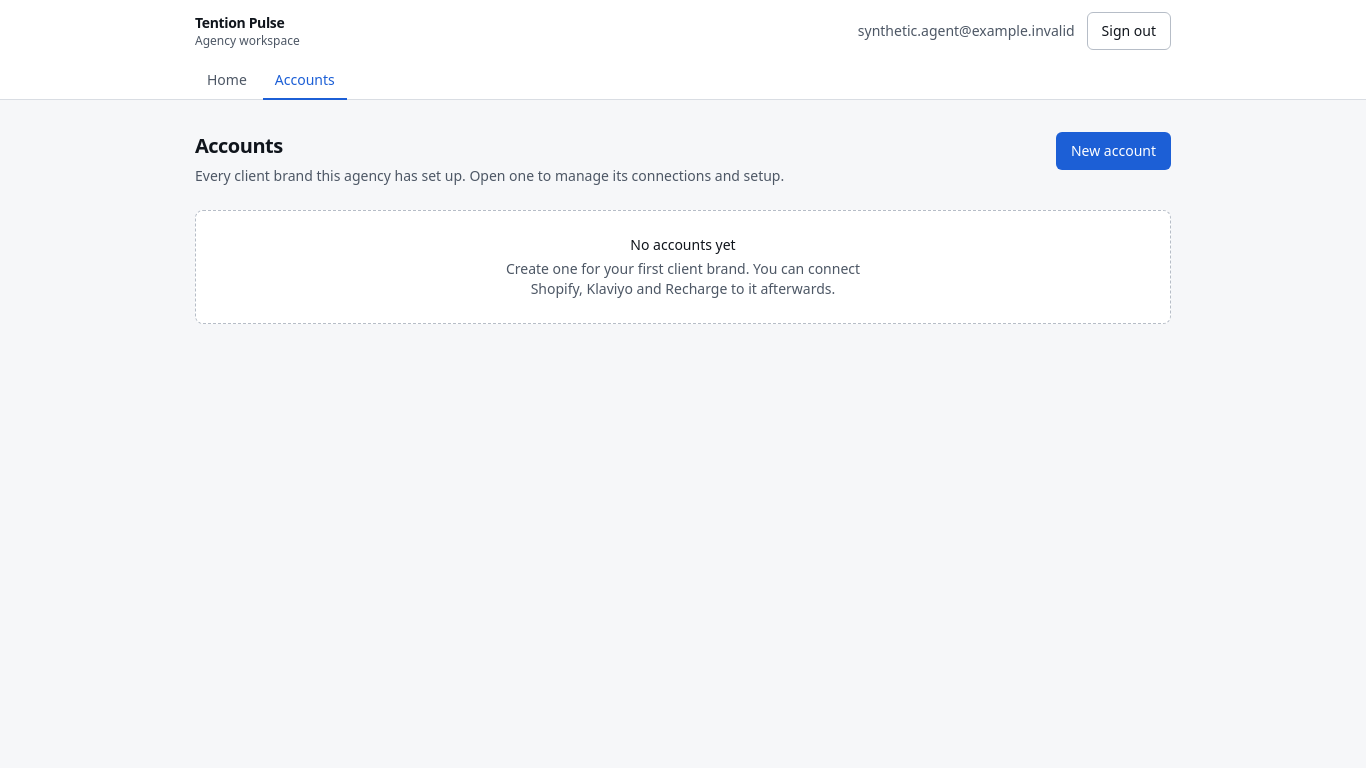
Test: creating an account › requires a timezone and does not pre-fill one
Expected: the heading "Accounts" is shown, [195,132,283,159]
Click the button "New account" at [1114, 151], box [1056,132,1171,170]
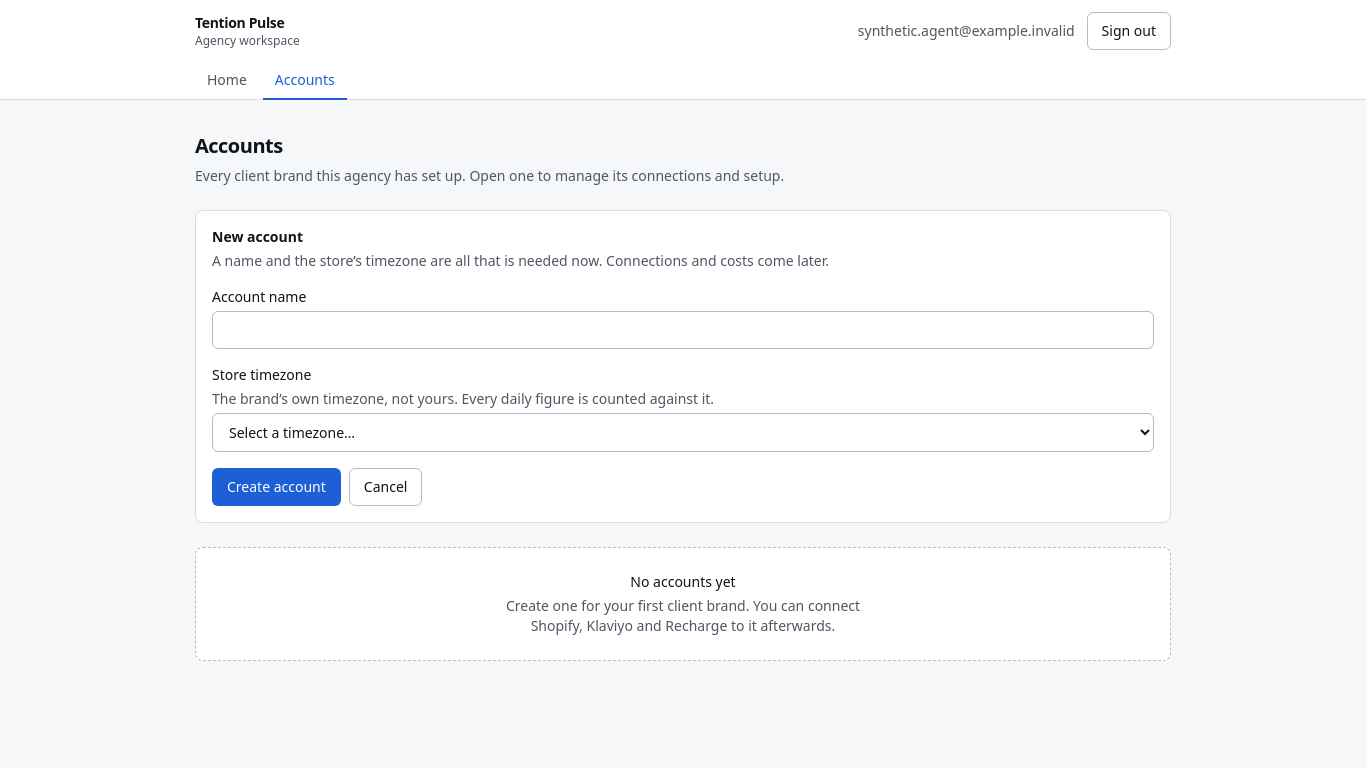
Expected: the heading "New account" is shown, [212,227,303,246]
Expected: the dropdown labelled "Store timezone" shows "Select a timezone…", [212,413,1154,452]
Type "Synthetic Nimbus" into the field labelled "Account name" at [683, 330], box [212,311,1154,349]
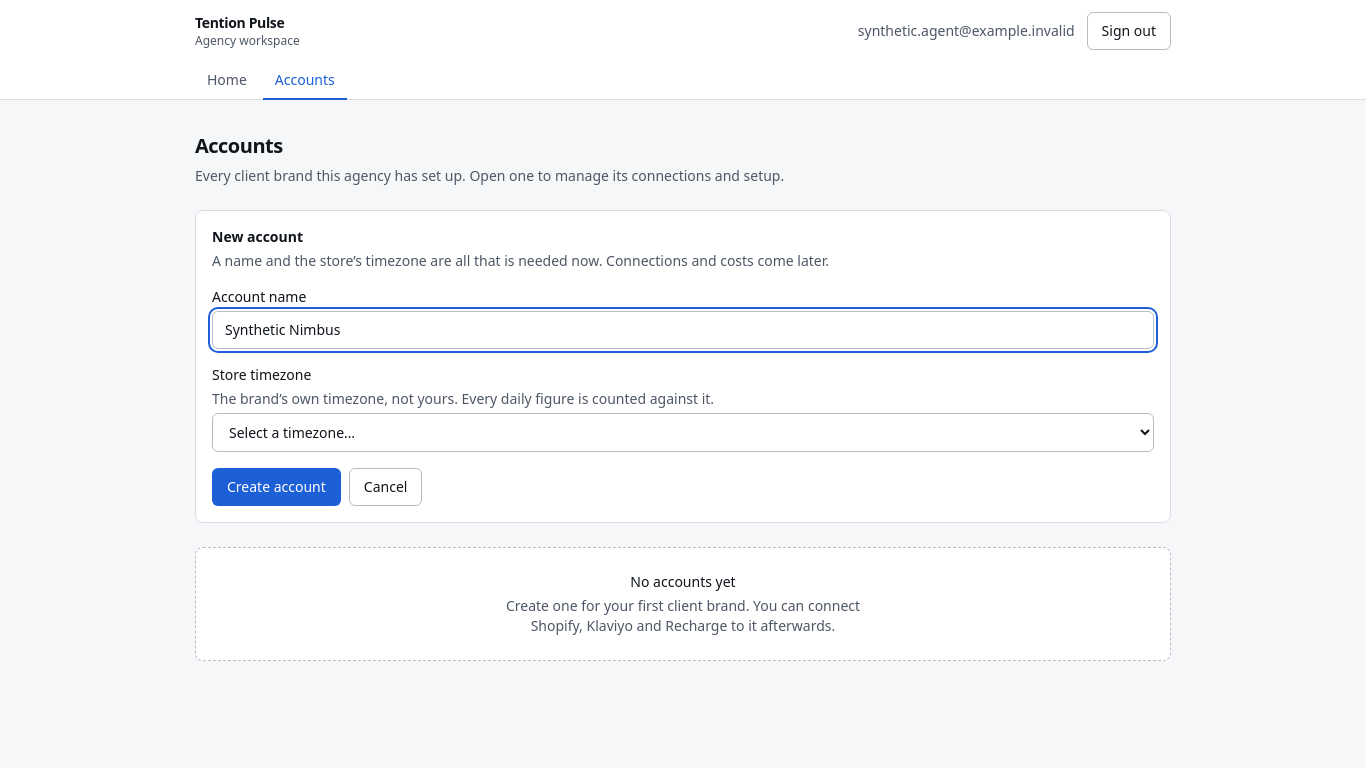
Click the button "Create account" at [276, 487], box [212,468,341,506]
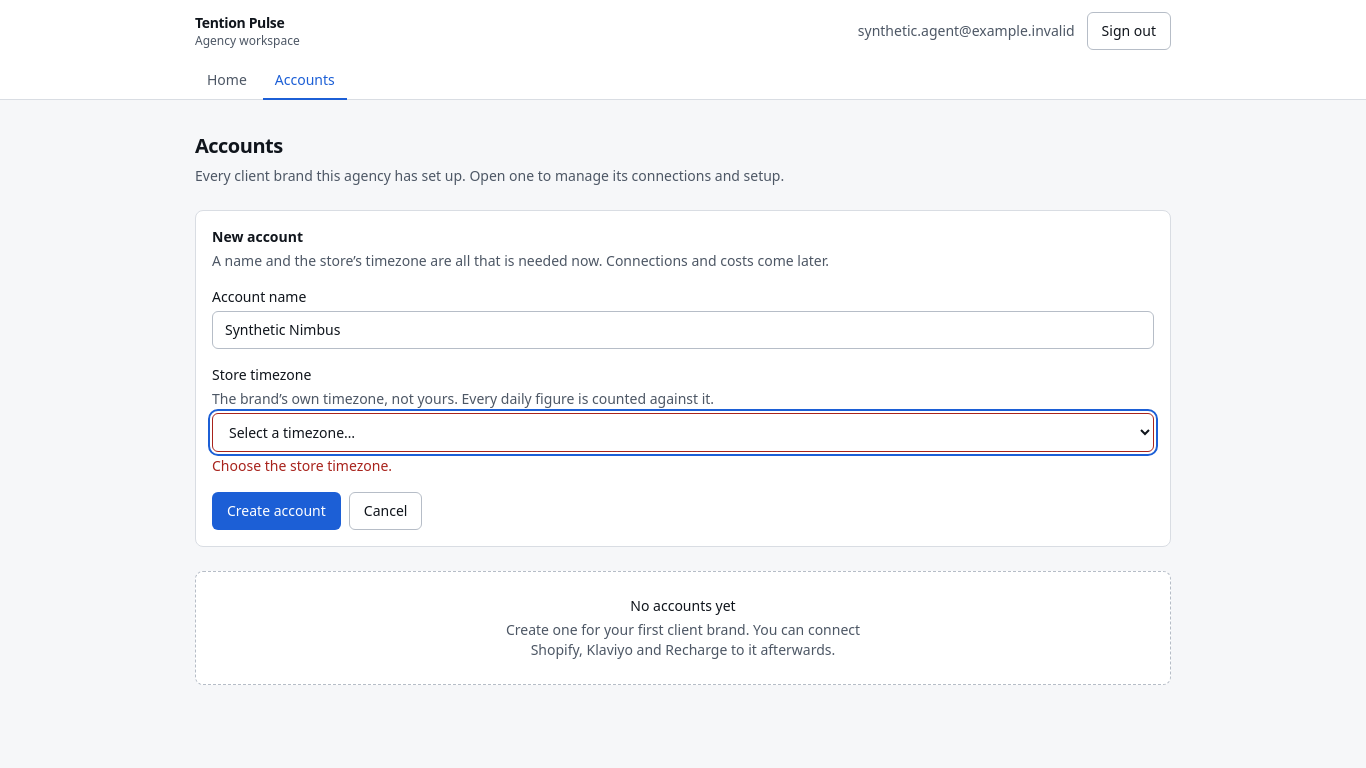
Expected: the text "Choose the store timezone." is shown, [212,456,392,475]
